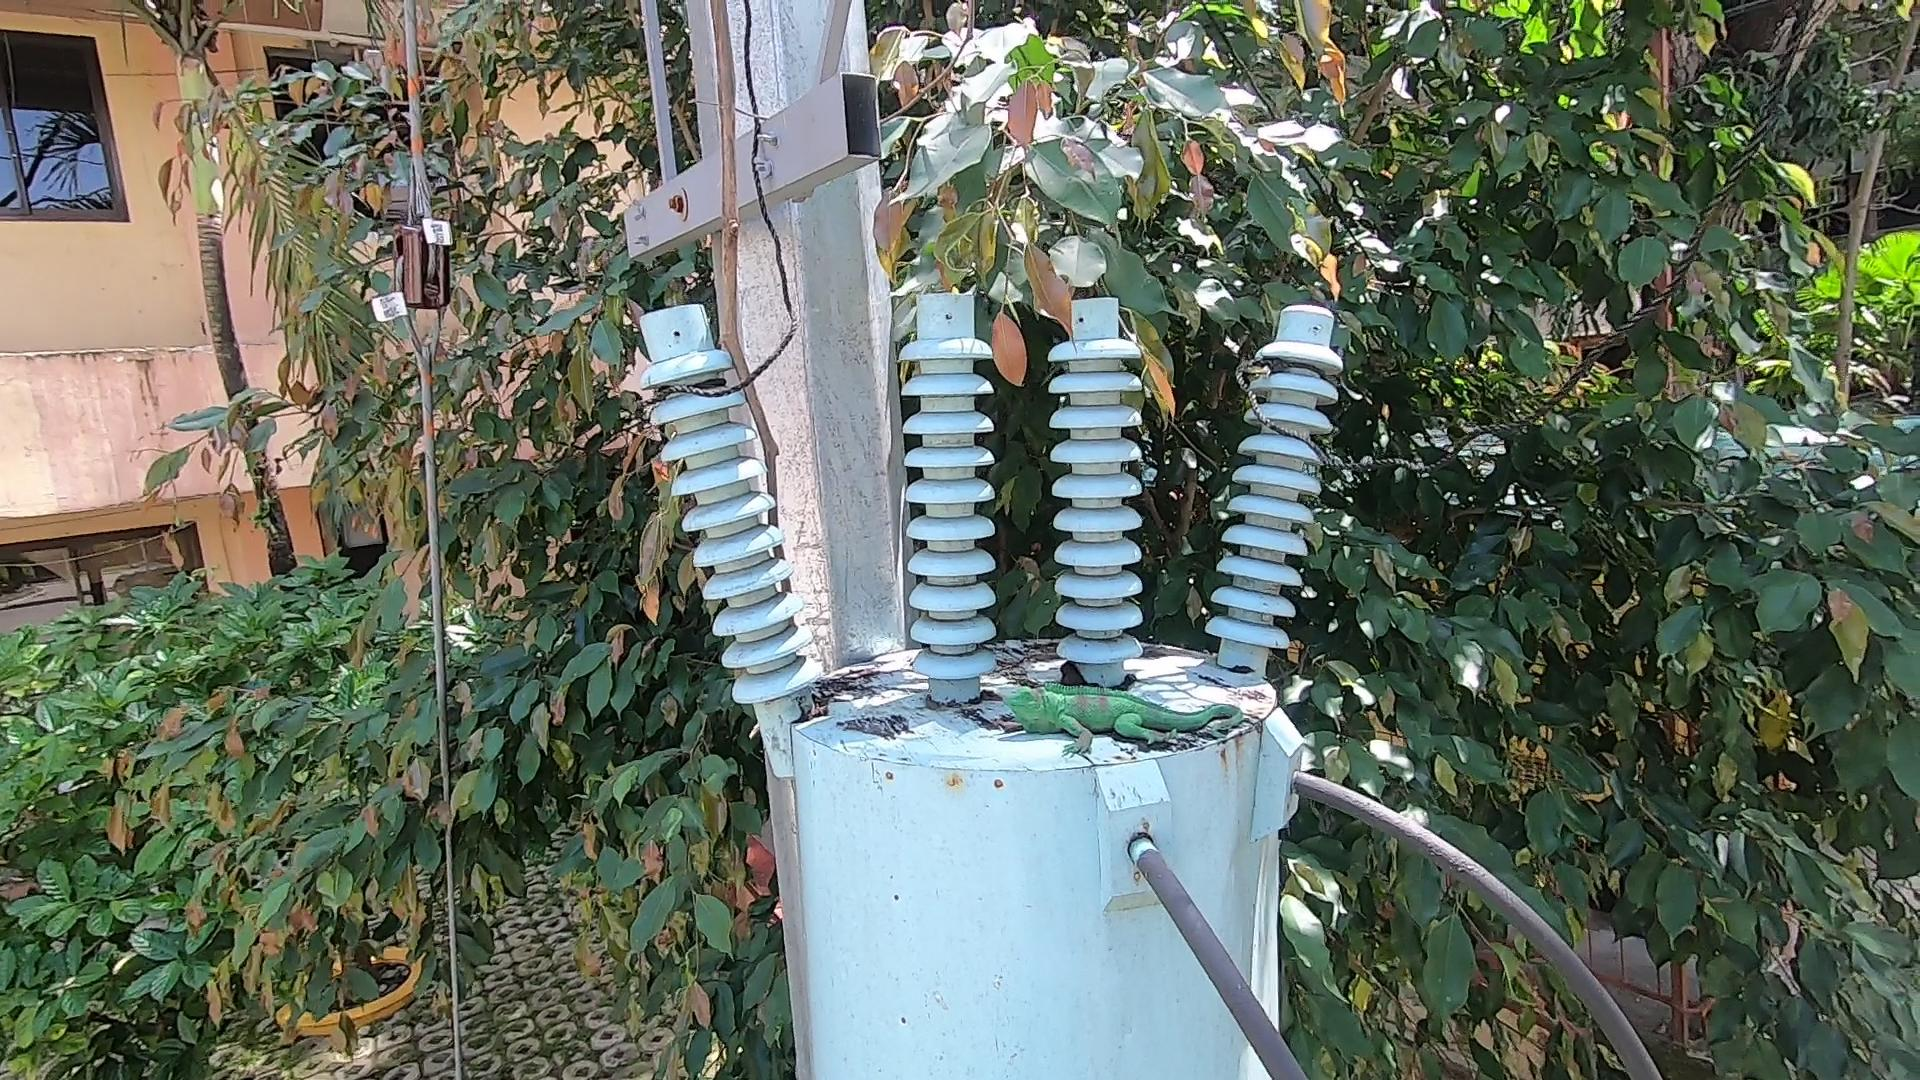branch with leaves: (965, 185, 1217, 425)
leaf: (785, 694, 852, 732), (1054, 657, 1106, 702)
tree branch: (661, 3, 804, 825)
